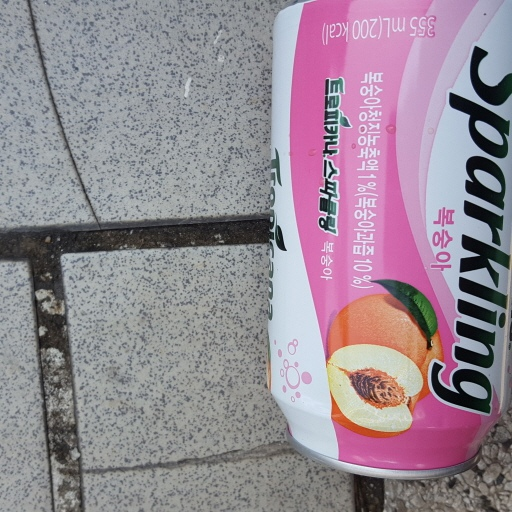Metal_0: (266, 1, 512, 484)
